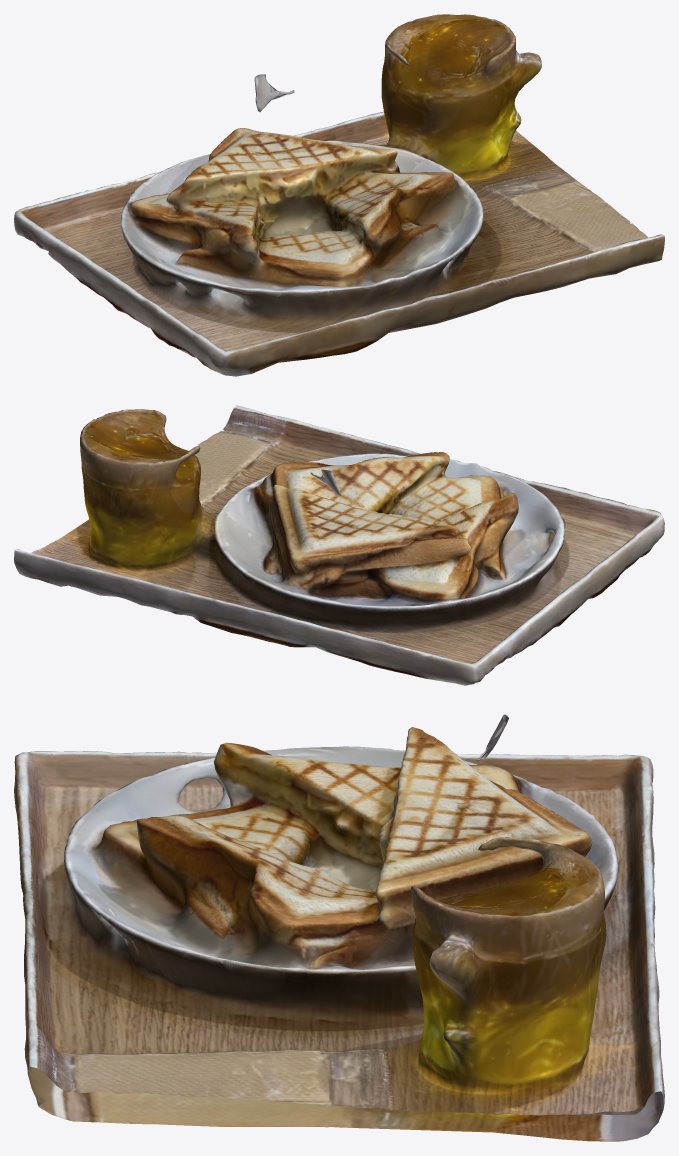
Rendered from hotsand.glb.
3 renders of one model, top to bottom at view 1: azimuth 30°, elevation 25°; view 2: azimuth 150°, elevation 25°; view 3: azimuth 270°, elevation 25°, orthographic. The views are drawn at different scales.
Visible parts, largest first — view 1: baked_mesh; view 2: baked_mesh; view 3: baked_mesh.
Part boxes in pixels (x1=…): baked_mesh: x1=14, y1=14, x2=664, y2=376; baked_mesh: x1=14, y1=405, x2=664, y2=685; baked_mesh: x1=14, y1=714, x2=664, y2=1141.
Bounding box in the file's own units: 0.3629 × 0.1126 × 0.2814.
1 material, 1 textured.
